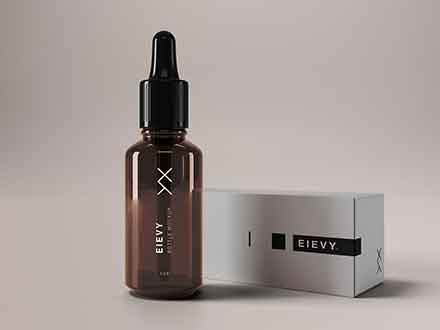Medicine: (110, 23, 215, 314), (200, 177, 391, 298)
